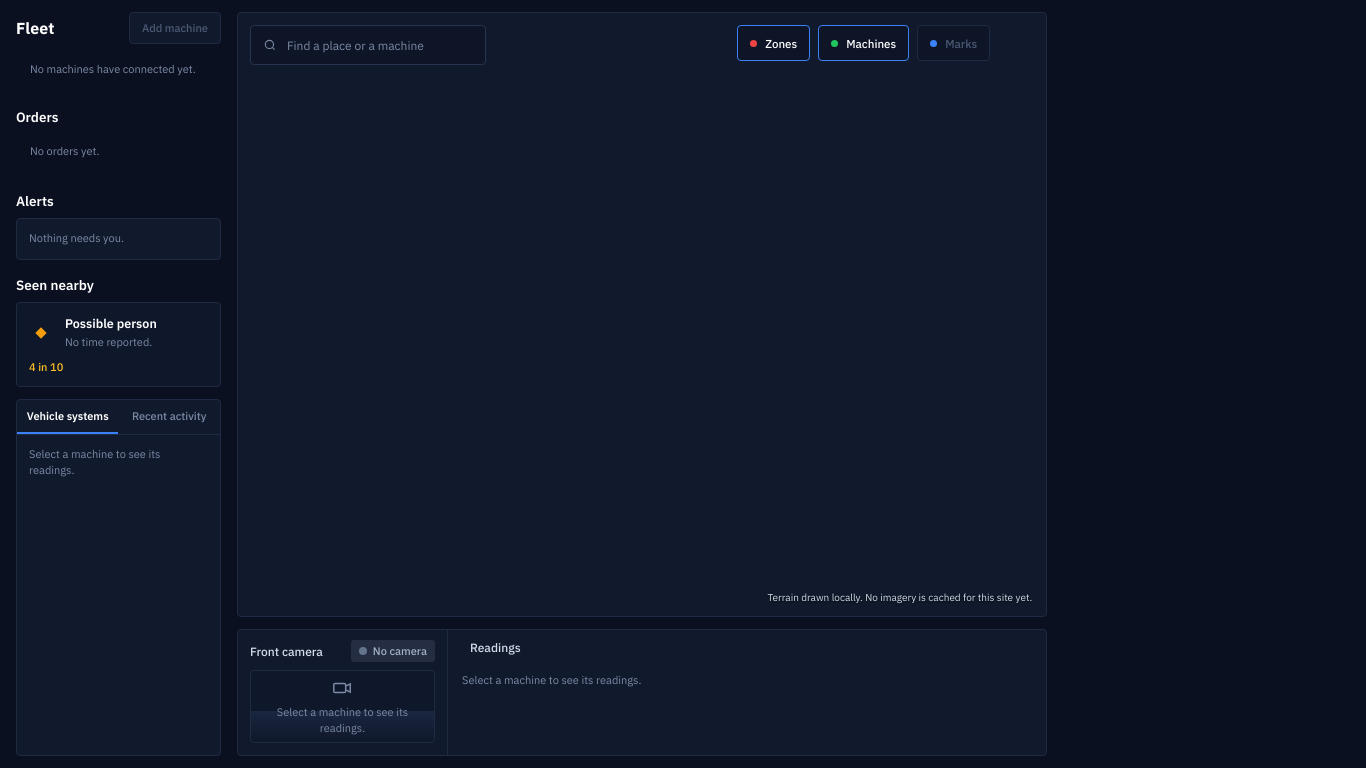
when there is no machine to speak for › never leaves a control with nothing written on it
Click the button "Possible person No time reported. 4 in 10" at point(118, 345), box [16, 302, 221, 387]
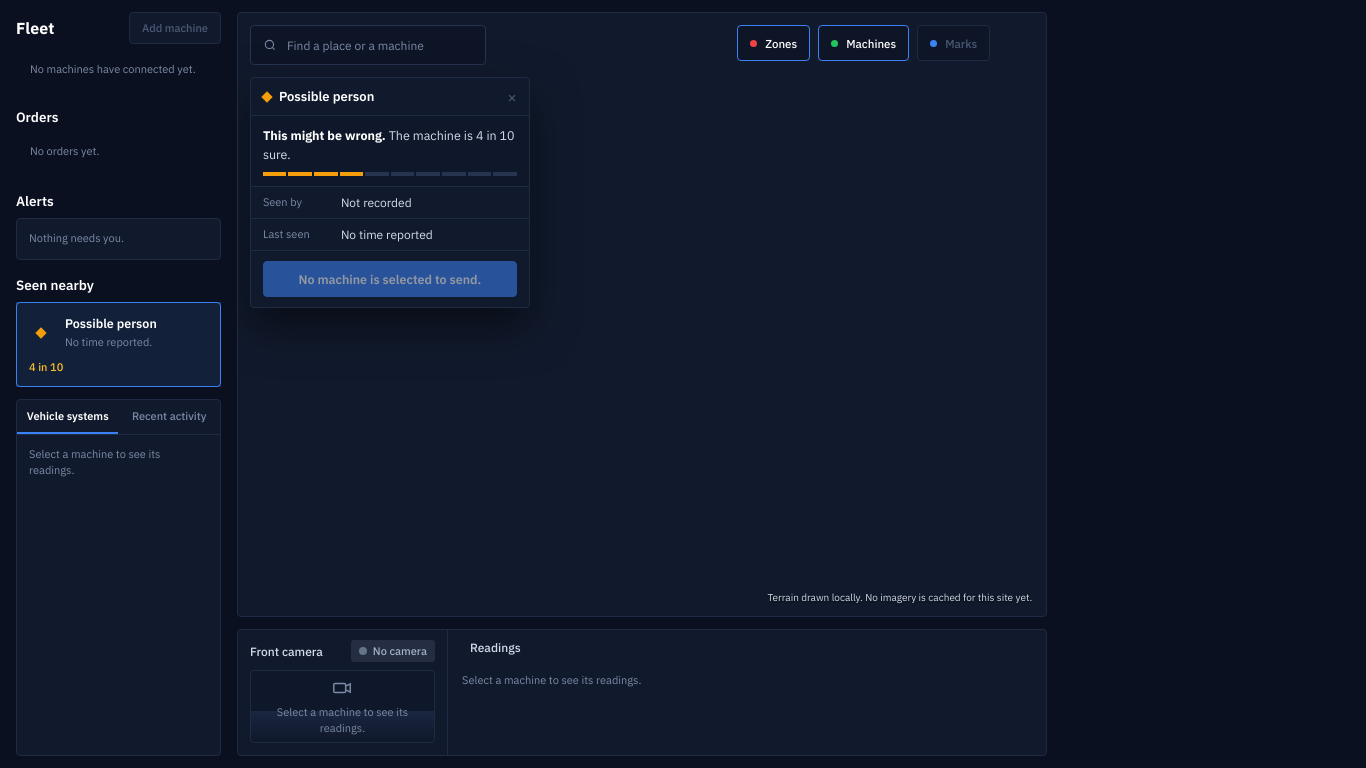
Expected: the button does not show ""
Now the button "No machine is selected to send." is shown, box [263, 261, 517, 297]
